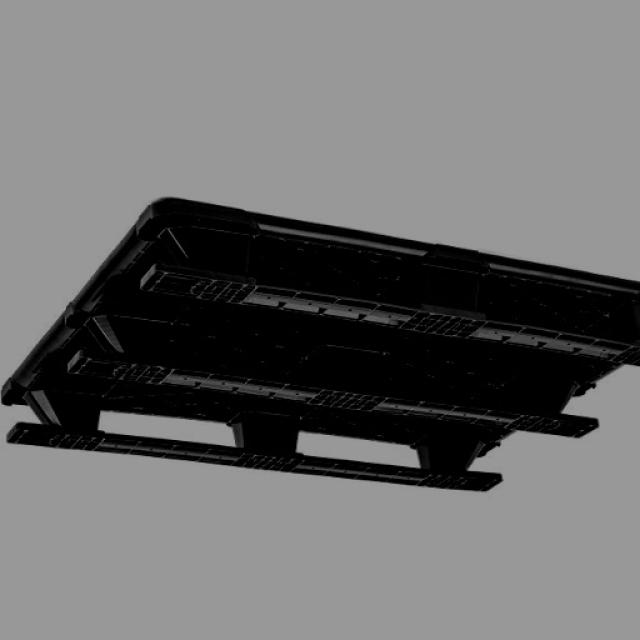non-igps: (0, 190, 637, 497)
